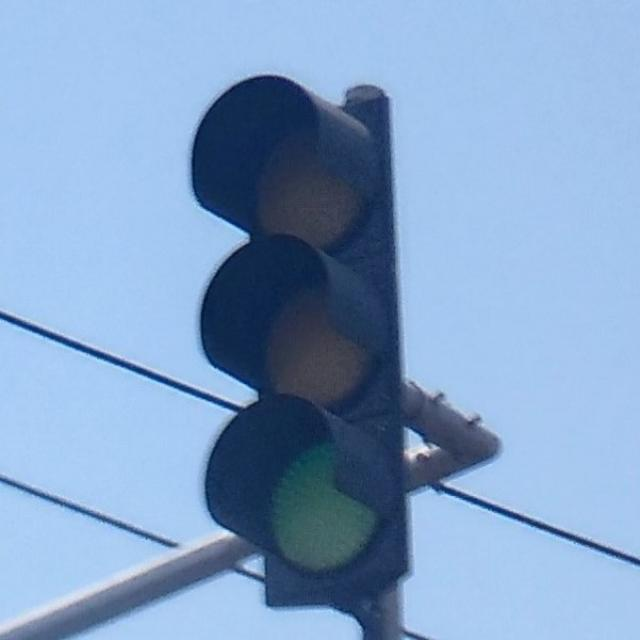traffic-lights: (164, 56, 429, 620)
